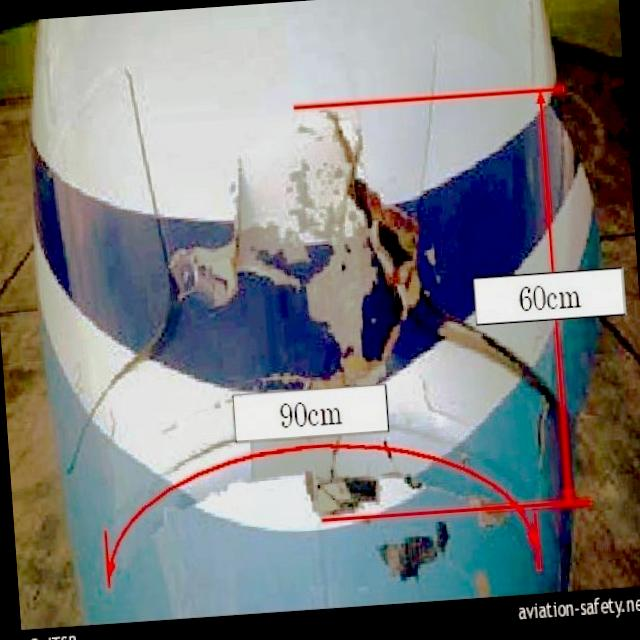crack: (320, 98, 560, 480), (207, 149, 265, 313)
